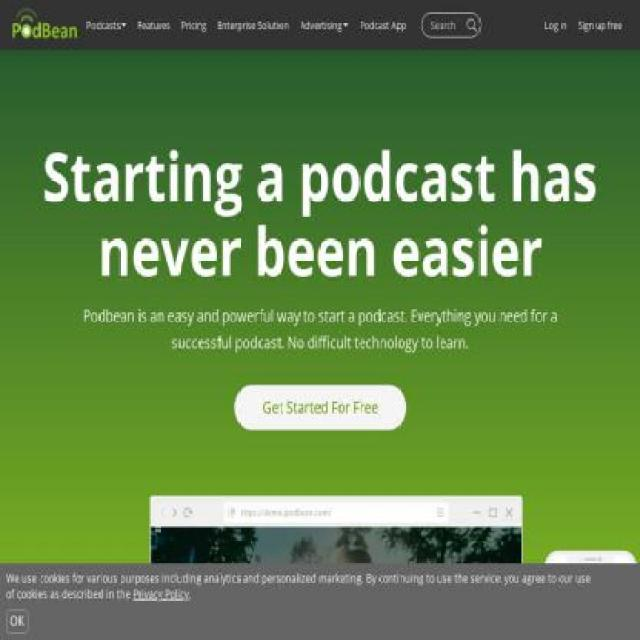button: (234, 385, 406, 430), (0, 3, 82, 43), (214, 13, 292, 36), (298, 13, 350, 36), (357, 13, 409, 36), (576, 13, 624, 36), (84, 13, 128, 36), (135, 13, 173, 36), (178, 13, 210, 36), (542, 13, 569, 36), (6, 610, 29, 633)
field: (422, 12, 480, 37)
